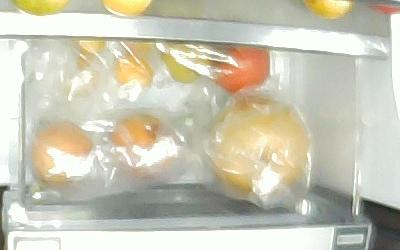peach_vinyl: (30, 118, 92, 187), (109, 115, 175, 178)
pear_vinyl: (209, 94, 307, 196)
tangerine_vinyl: (111, 57, 154, 89)
tomato_vinyl: (205, 44, 270, 92), (160, 42, 211, 83)
